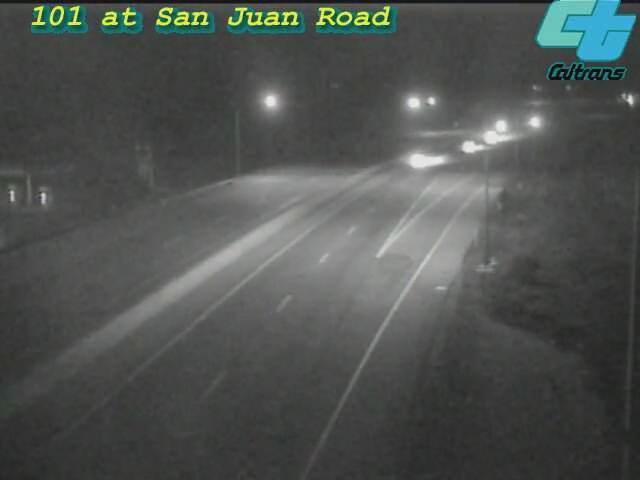vehicle: (380, 121, 460, 201), (475, 100, 525, 150), (503, 96, 553, 146), (467, 113, 517, 163), (443, 122, 493, 172)
